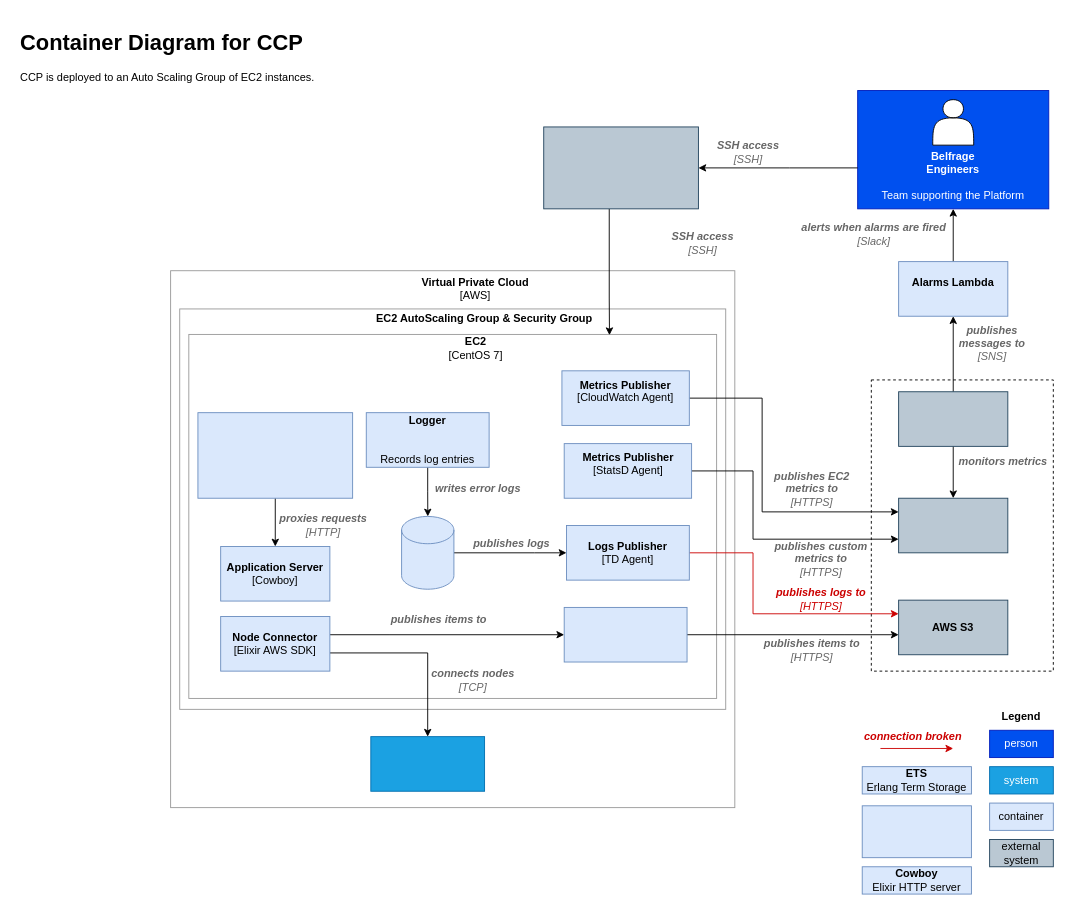
This 1069x910 diagram has some shape labels left out. Here are the shapes that lost their labels. From the top down, the box of each, then its label:
(543, 126, 698, 209): Cosmos Bastions Allows secure access to EC2 instances managed by Cosmos
(898, 391, 1008, 446): AWS CloudWatch Alarms
(197, 412, 353, 498): Reverse Proxy [Apache] Provides SSL termination/authorisation by mutual TLS
(898, 497, 1008, 553): AWS CloudWatch Metrics
(401, 516, 454, 589): Local disk (EBS)
(563, 607, 687, 662): Cache Publisher [GenServer]
(370, 736, 485, 791): Belfrage
(861, 805, 971, 858): GenServer Elixir Process running in memory
